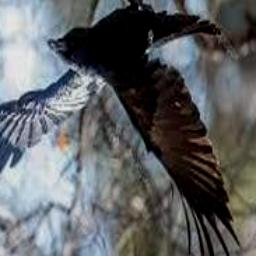Crow: (0, 0, 241, 256)
